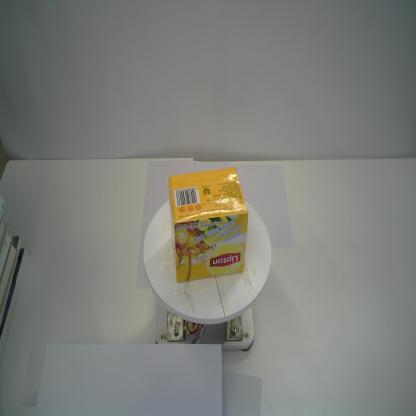Instant Drink: (168, 166, 250, 285)
